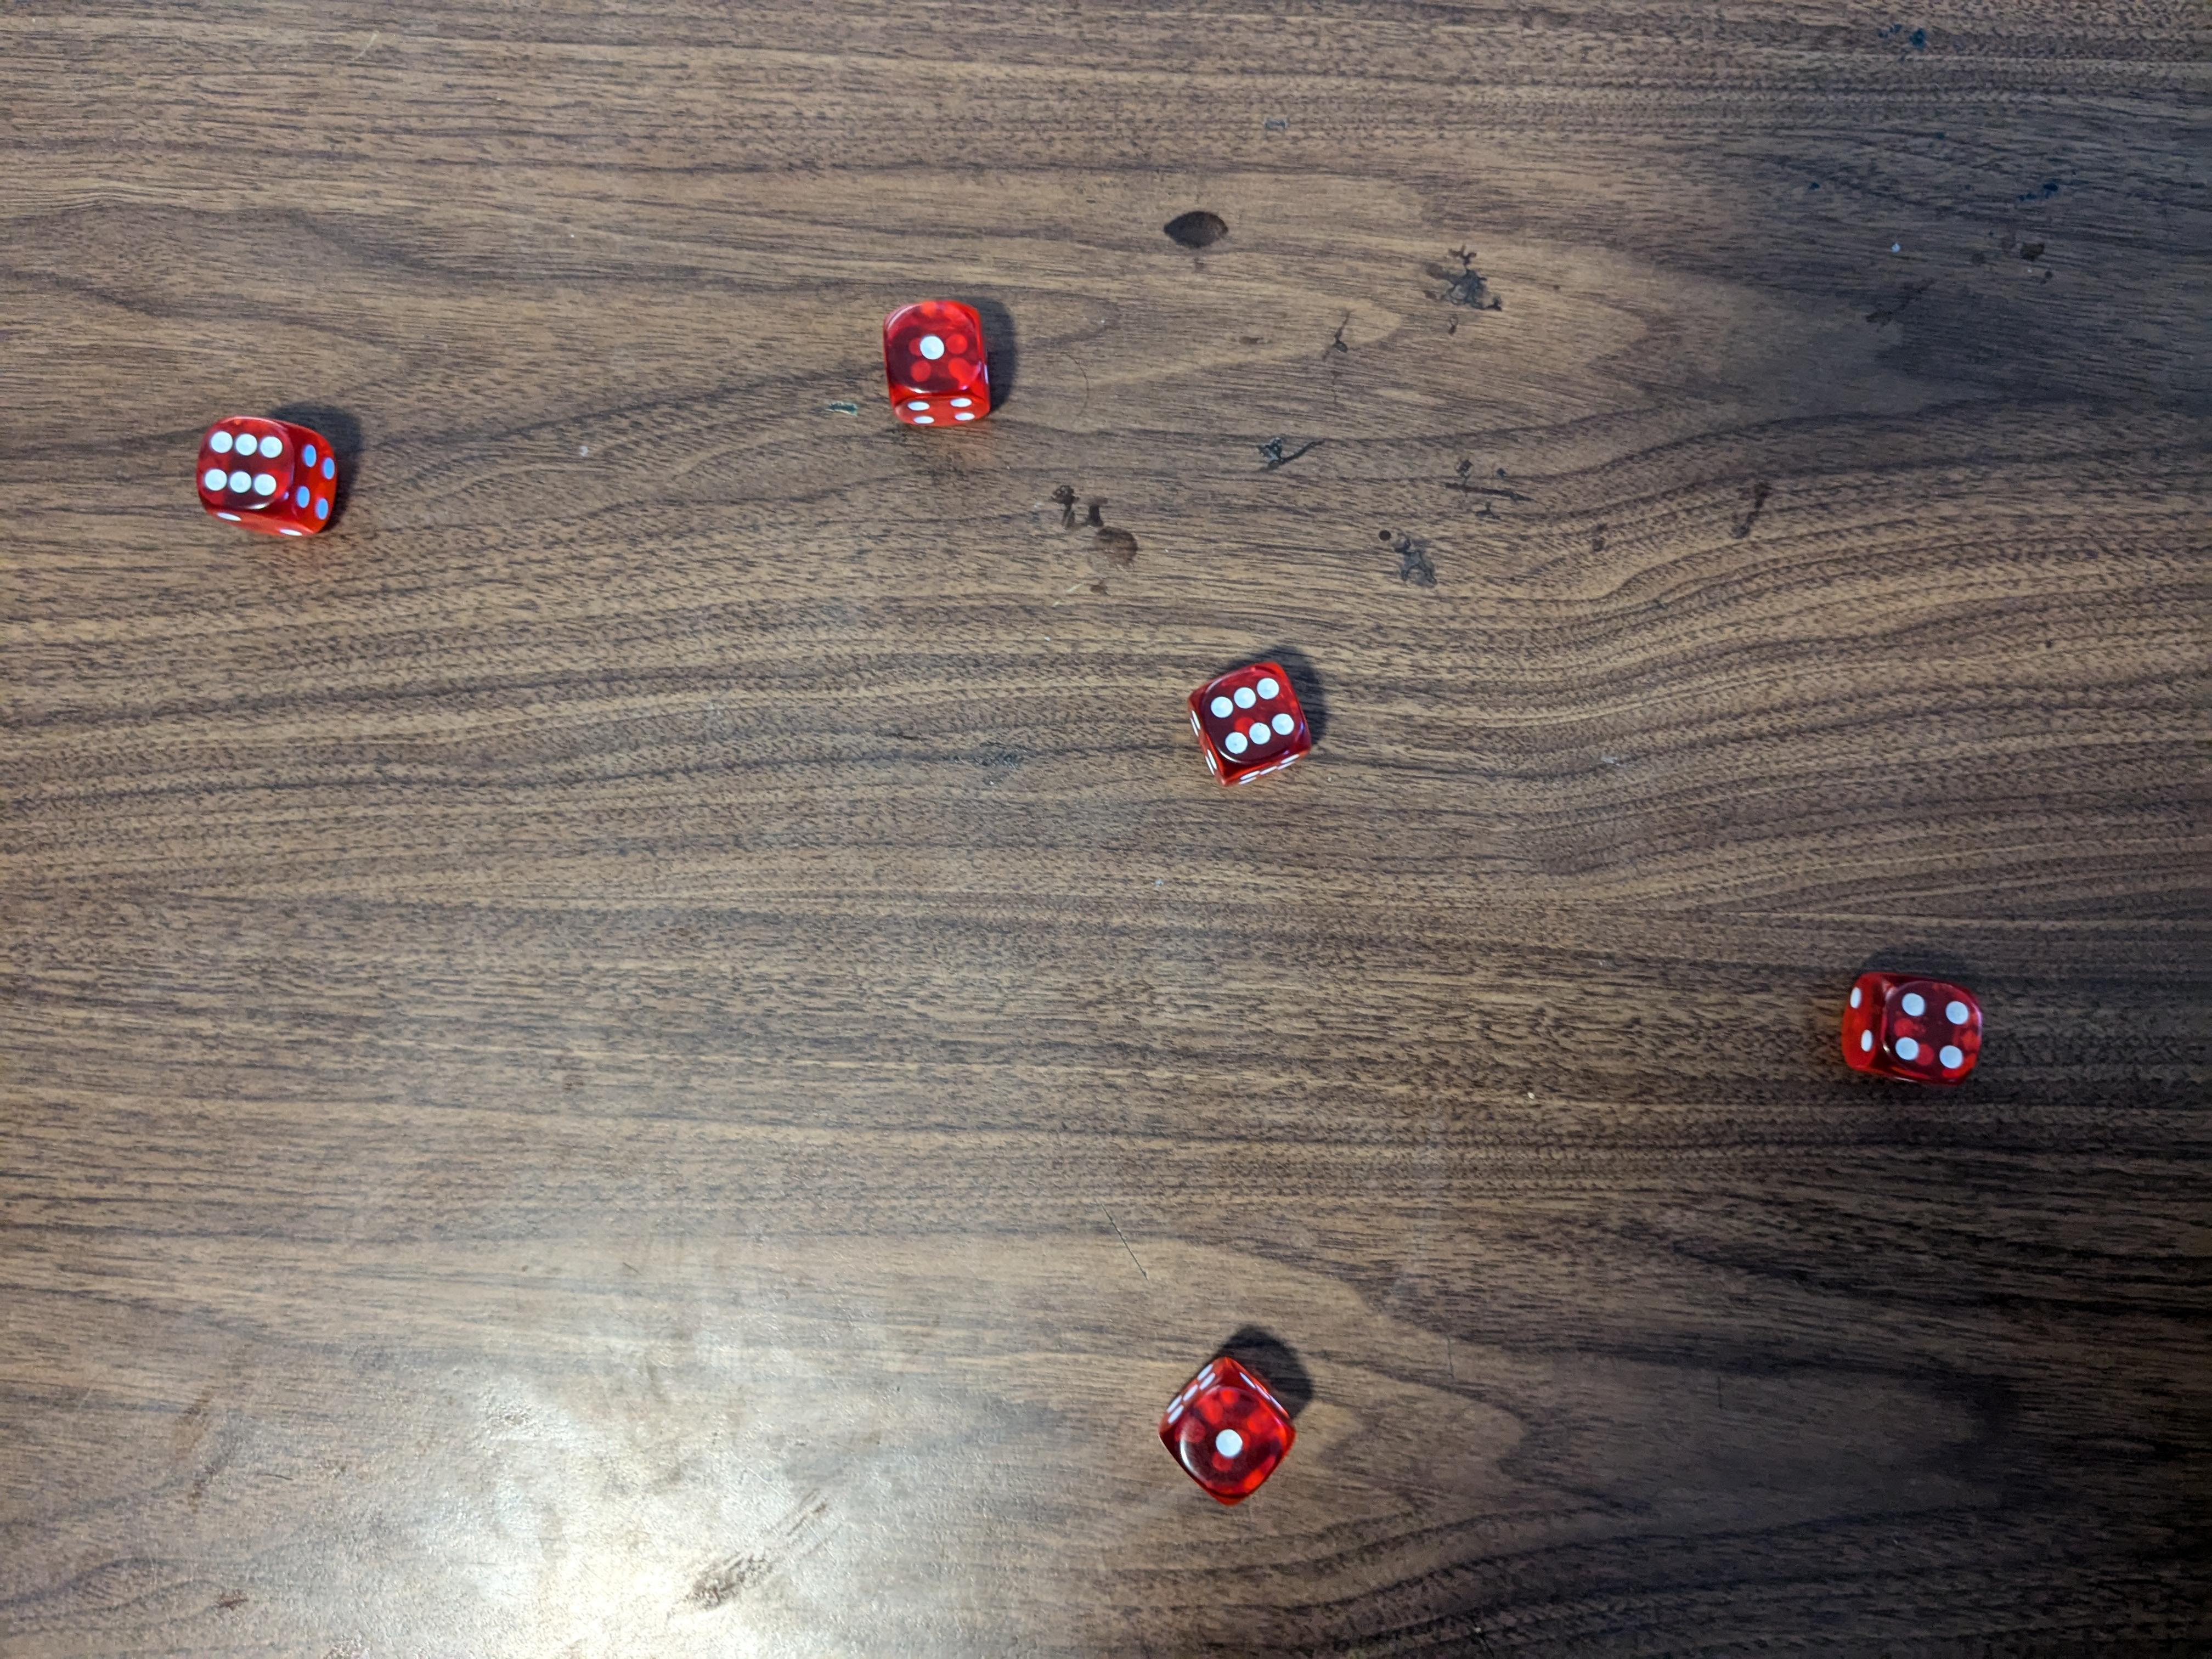four: (1841, 964, 1987, 1089)
one: (1151, 1361, 1298, 1511), (880, 296, 996, 429)
six: (193, 411, 338, 542), (1188, 657, 1317, 788)
